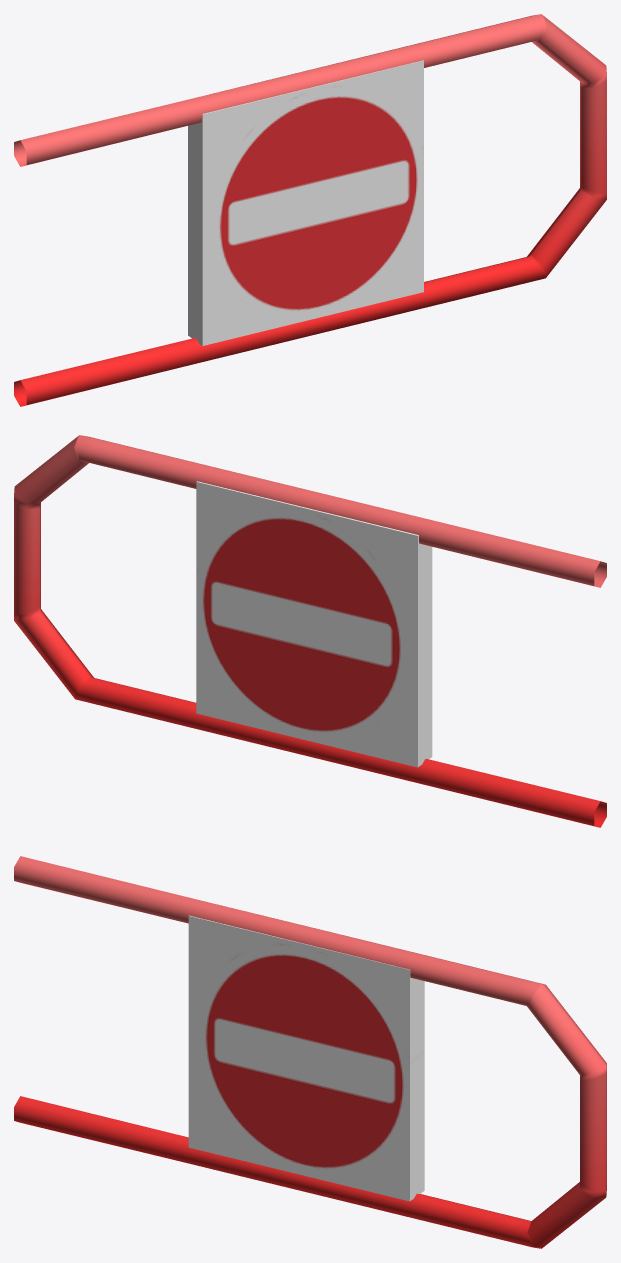
Rendered from Sign.fbx.
3 renders of one model, top to bottom at view 1: azimuth 30°, elevation 25°; view 2: azimuth 150°, elevation 25°; view 3: azimuth 330°, elevation 25°, orthographic.
Visible parts, largest first — view 1: polySurface1; view 2: polySurface1; view 3: polySurface1.
Part boxes in pixels (<box>): polySurface1: <box>14,14,606,406</box>; polySurface1: <box>14,435,606,827</box>; polySurface1: <box>14,856,606,1248</box>.
Bounding box in the file's own units: 6.74 × 2.93 × 0.29.
Materials: 1 (1 with a texture image).
